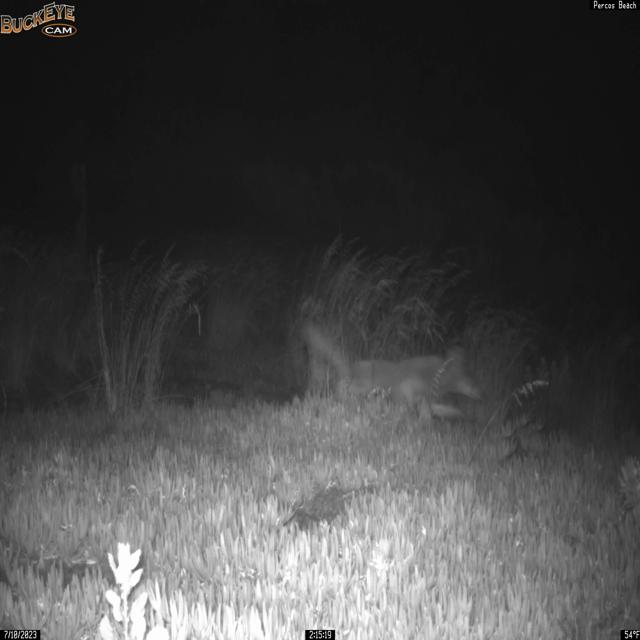coyote: (299, 319, 484, 421)
